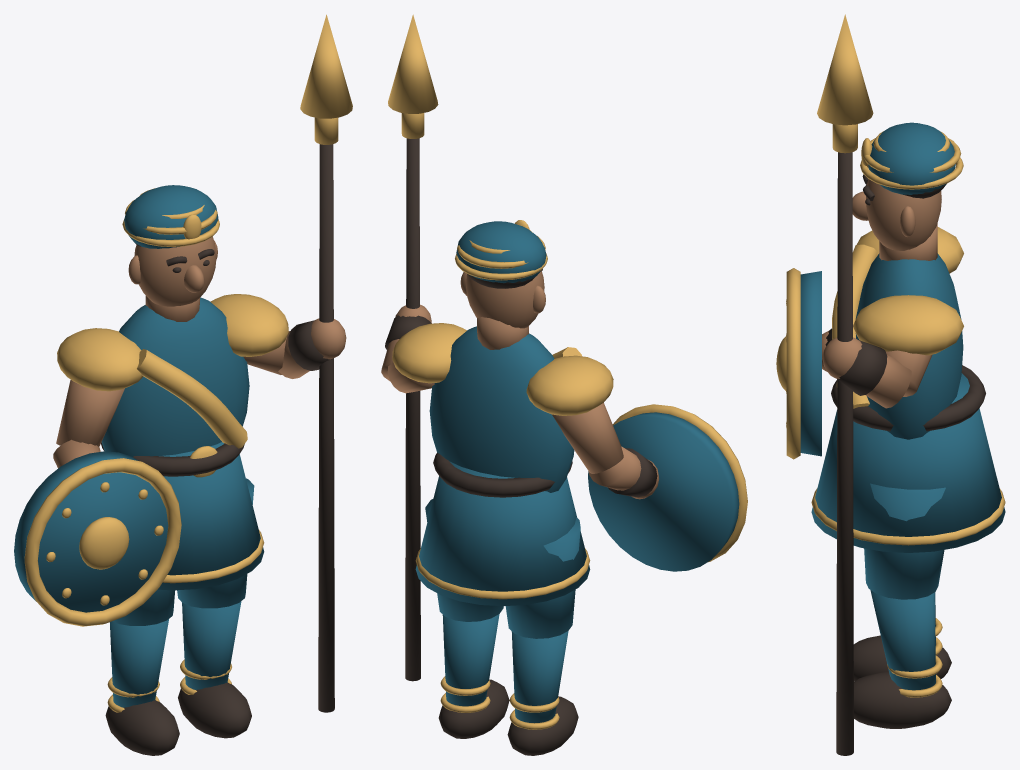
Rendered from guard.glb.
3 views of the same model, side by side, from view 1: azimuth 30°, elevation 25°; view 2: azimuth 150°, elevation 25°; view 3: azimuth 270°, elevation 25° (orthographic). The views are drawn at different scales.
Parts seen in each view (by area): view 1: guard; view 2: guard; view 3: guard.
Boxes of the visible parts, <box> form: guard: <box>14,14,352,755</box>; guard: <box>381,14,747,755</box>; guard: <box>776,14,1005,755</box>.
Bounding box in the file's own units: 1.02 × 1.98 × 0.543.
